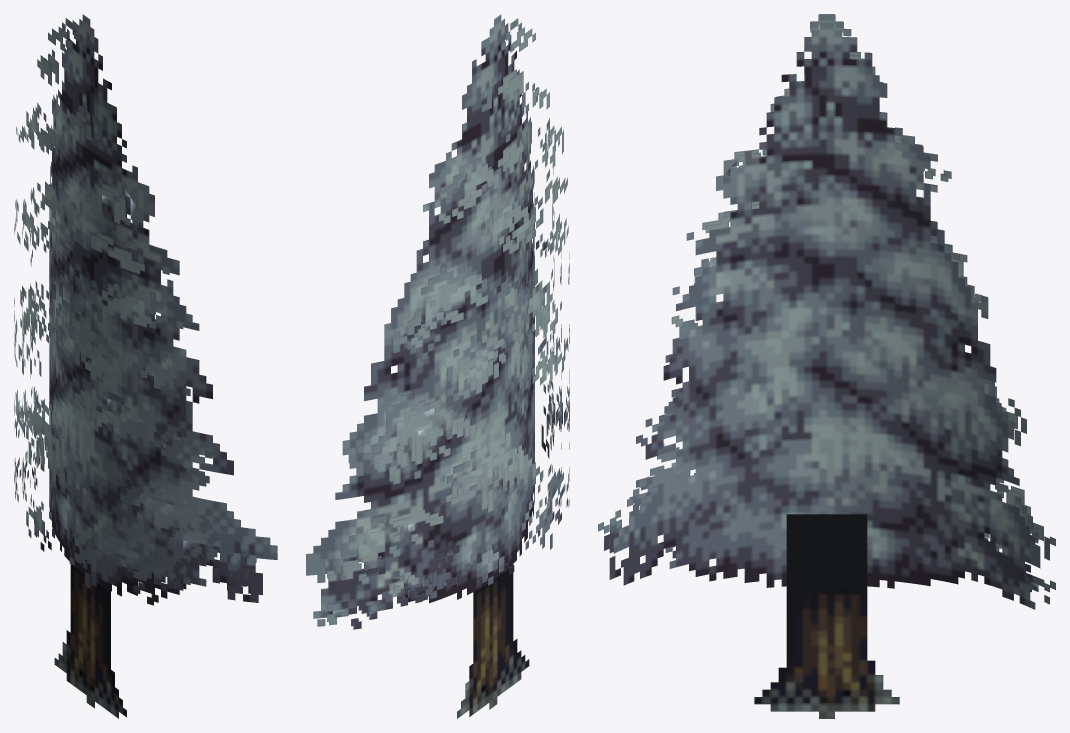
The model's file is ObjMD_Tree_Snow_A.FBX.
3 renders of one model, left to right at view 1: azimuth 30°, elevation 25°; view 2: azimuth 150°, elevation 25°; view 3: azimuth 270°, elevation 25°, orthographic.
Parts seen in each view (by area): view 1: ObjMD_Tree_Snow_A; view 2: ObjMD_Tree_Snow_A; view 3: ObjMD_Tree_Snow_A.
Boxes of the visible parts, x1,y1,x2,y2 form: ObjMD_Tree_Snow_A: [14, 14, 277, 718]; ObjMD_Tree_Snow_A: [306, 14, 569, 718]; ObjMD_Tree_Snow_A: [598, 14, 1055, 718].
Bounding box in the file's own units: 104 × 594 × 355.
